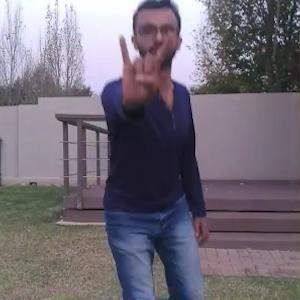takeoff-hand: (111, 28, 178, 109)
